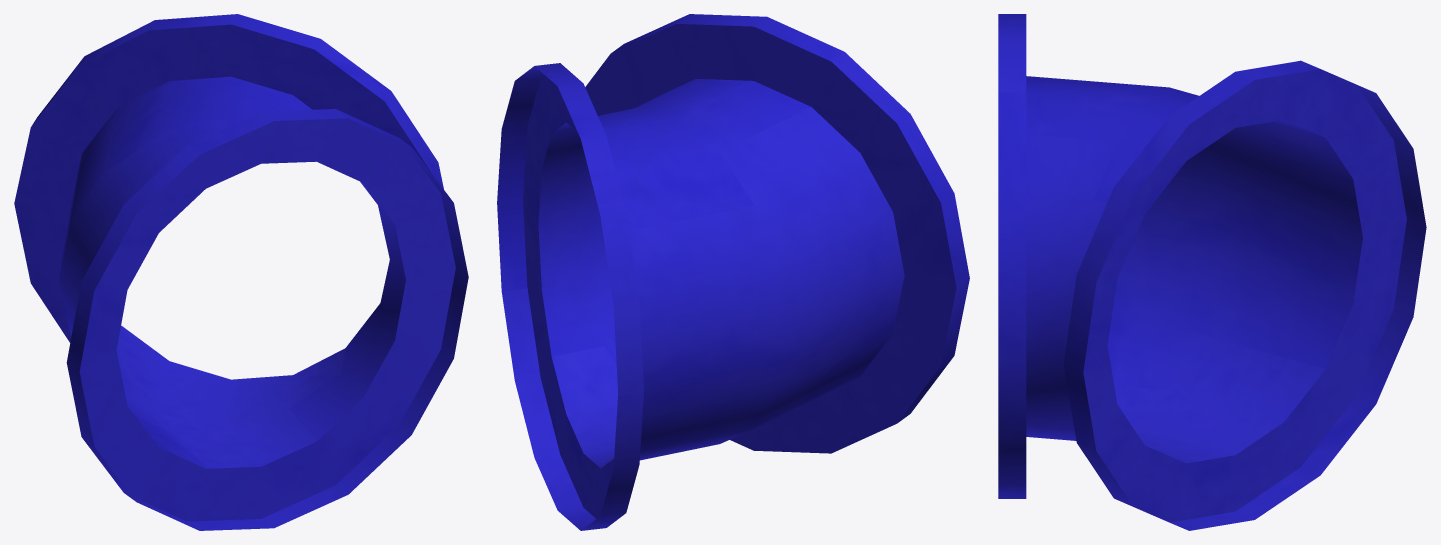
The model's file is pipeElbow45.fbx.
3 renders of one model, left to right at view 1: azimuth 30°, elevation 25°; view 2: azimuth 150°, elevation 25°; view 3: azimuth 270°, elevation 25°, orthographic. The views are drawn at different scales.
Visible parts, largest first — view 1: pipeElbow45; view 2: pipeElbow45; view 3: pipeElbow45.
Part boxes in pixels (x1=…): pipeElbow45: x1=14, y1=14, x2=468, y2=530; pipeElbow45: x1=497, y1=14, x2=969, y2=530; pipeElbow45: x1=998, y1=14, x2=1426, y2=530.
Size of the model in its own units: 0.4578 by 0.4296 by 0.3789.
